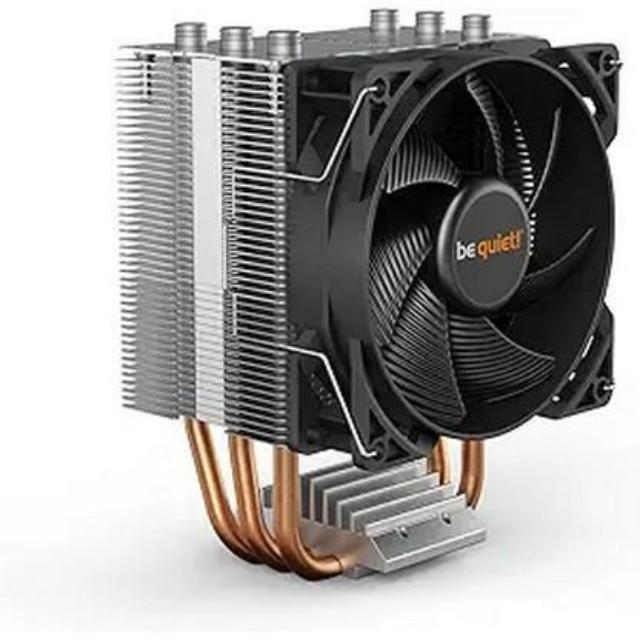CPU_Fan: (113, 1, 619, 588)
